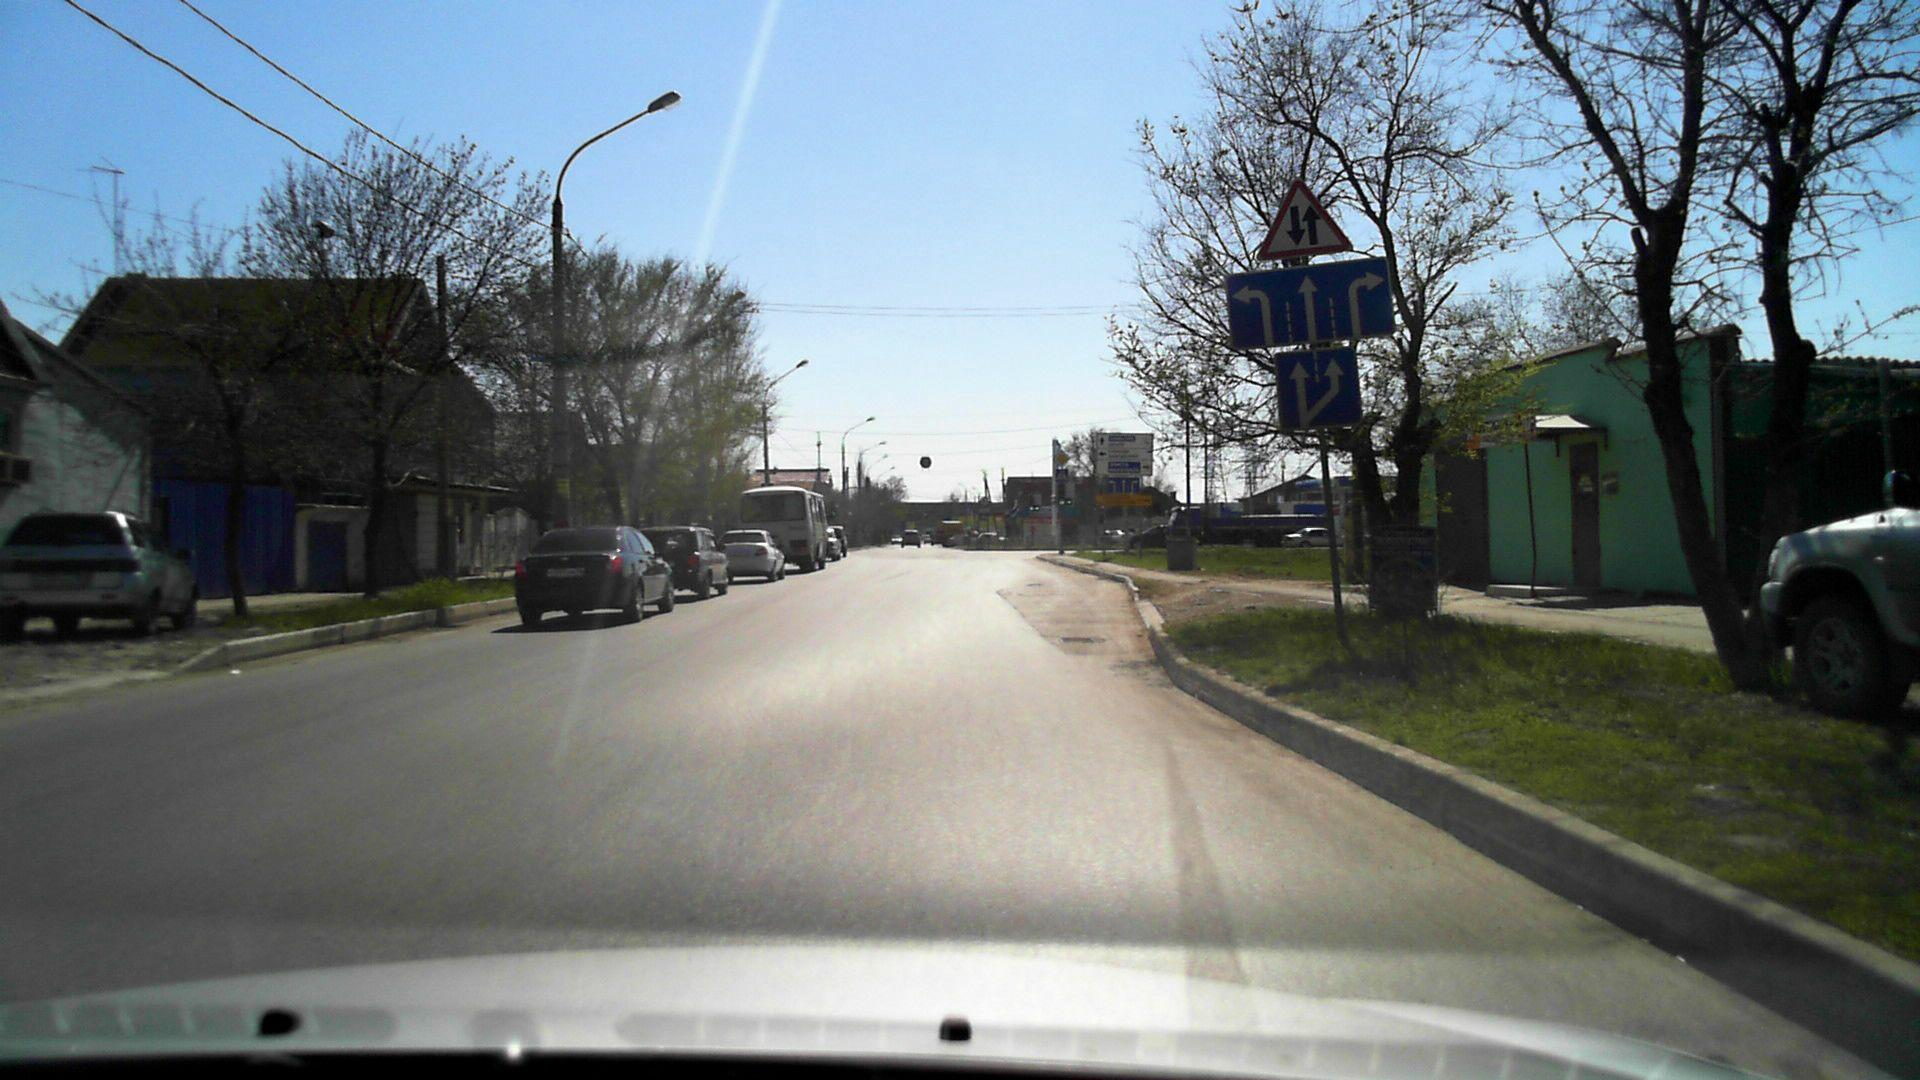1_21: (1254, 174, 1353, 256)
2_1: (1054, 450, 1071, 468)
5_15_1: (1226, 255, 1391, 353)
5_15_3: (1273, 351, 1365, 429)
5_19_1: (1055, 468, 1069, 481)
6_10_1: (1096, 433, 1154, 479)
